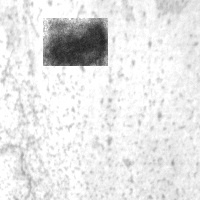patches: (43, 18, 108, 66)
pitted_surface: (49, 1, 198, 195), (2, 23, 57, 198)
